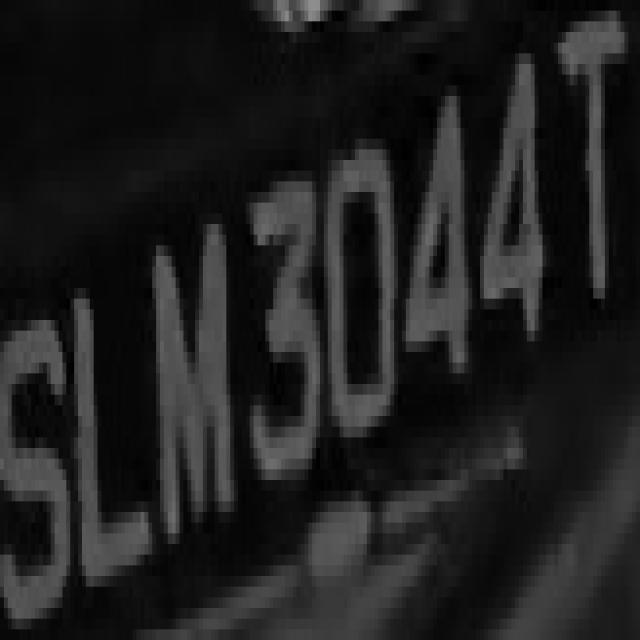0: (324, 107, 406, 469)
3: (238, 138, 320, 490)
4: (464, 53, 554, 395), (402, 64, 476, 448)
L: (63, 245, 148, 598)
M: (137, 213, 238, 576)
S: (4, 288, 78, 640)
T: (550, 32, 640, 363)
